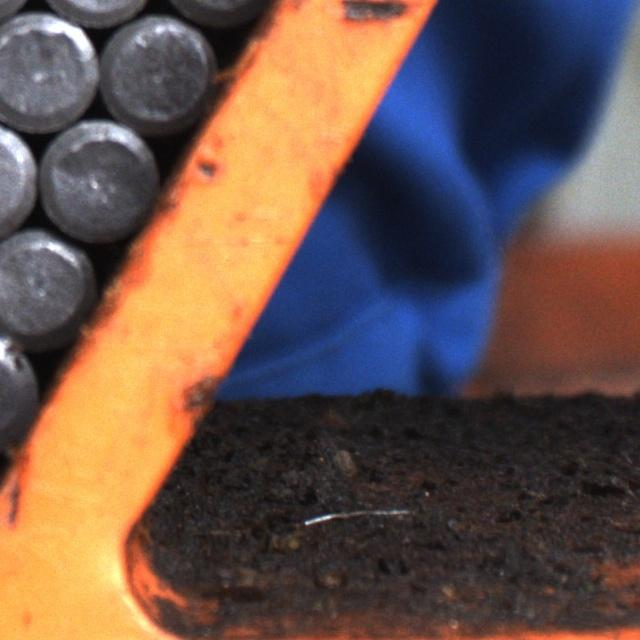tool: (37, 116, 161, 242), (96, 13, 216, 129), (0, 11, 100, 132), (0, 227, 94, 343)
